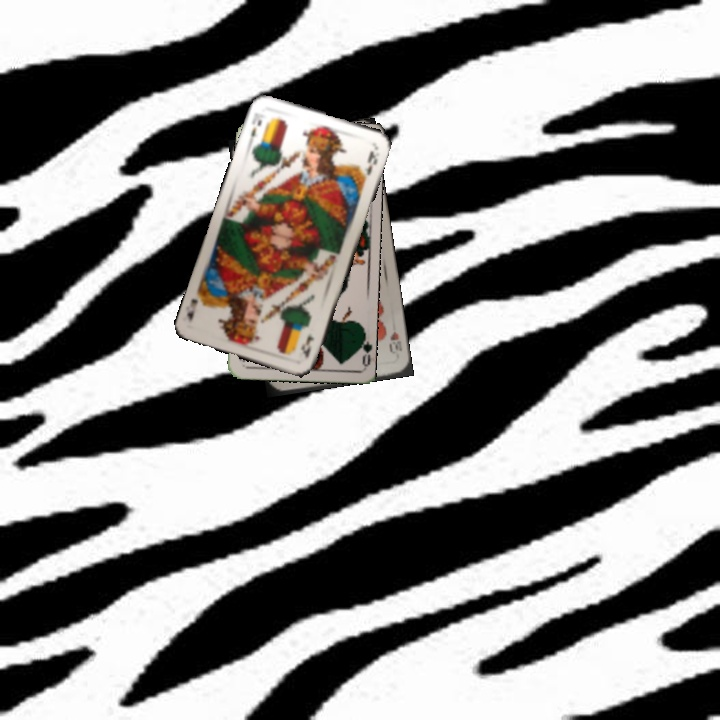EK: (244, 108, 265, 144), (297, 329, 316, 361)
GO: (352, 327, 372, 368)
H10: (385, 328, 405, 362)
